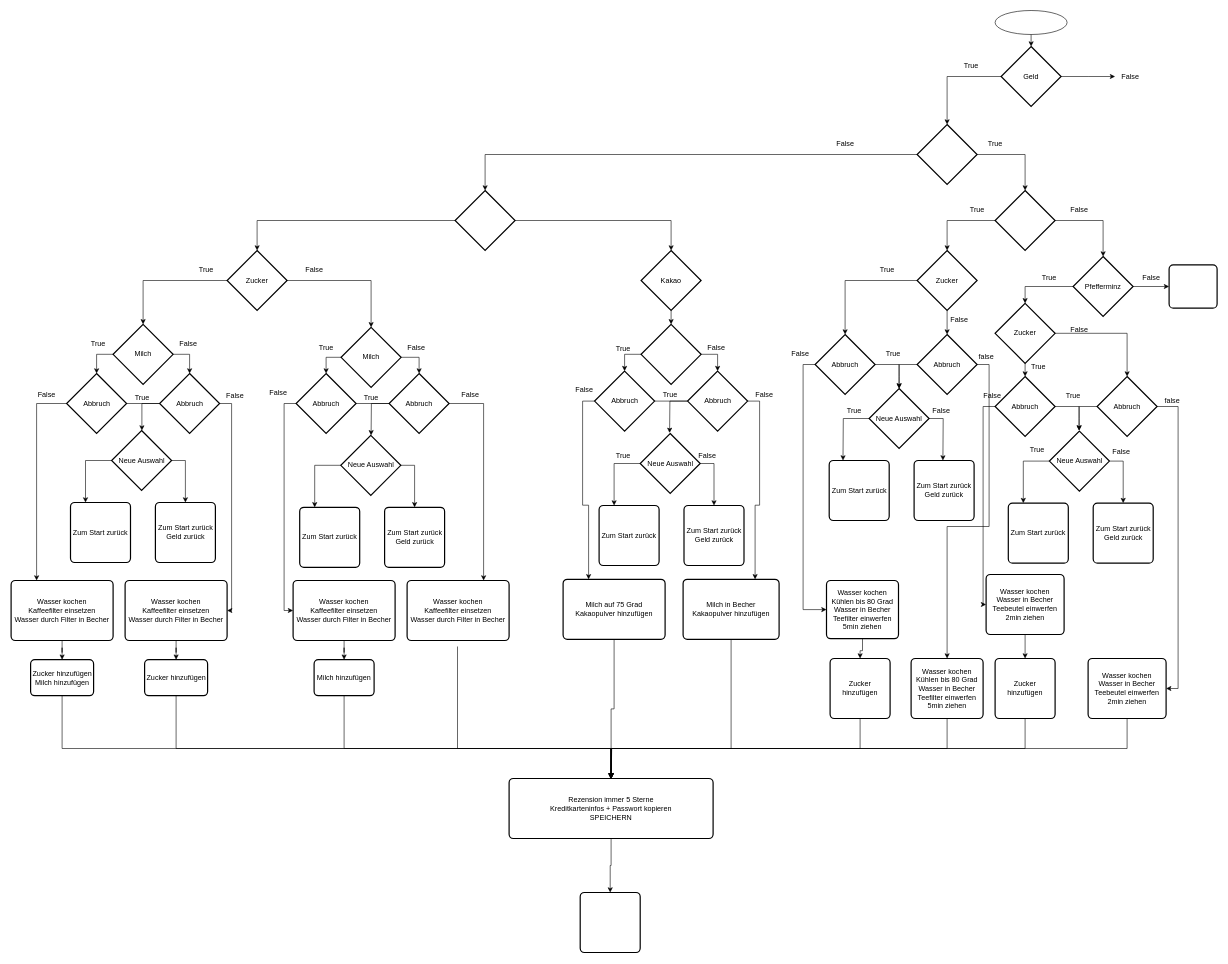
The diagram is 1228 pixels wide and 964 high, and some of its shapes have lost their labels. Each missing label, with the box of its shape:
Becher wird ausgegeben: (579, 892, 640, 953)
Grüner Tee: (994, 190, 1055, 251)
Heiß: (640, 323, 701, 385)
Kaffee: (454, 190, 515, 251)
Start: (994, 10, 1067, 34)
Tee: (916, 124, 977, 185)
Zurück zu start Geld zurück: (1168, 264, 1217, 308)
